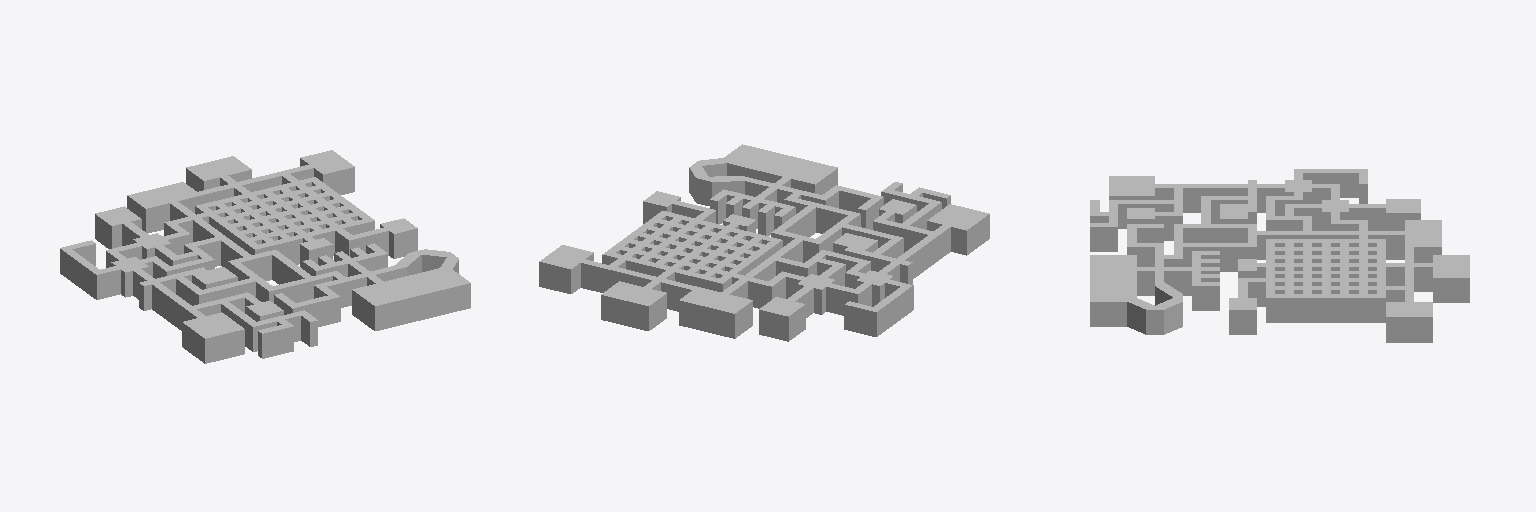
File: 14.full.obj
3 views of the same model, side by side, from view 1: azimuth 30°, elevation 25°; view 2: azimuth 150°, elevation 25°; view 3: azimuth 270°, elevation 25° (orthographic).
Size of the model in its own units: 114 by 9.3 by 123.